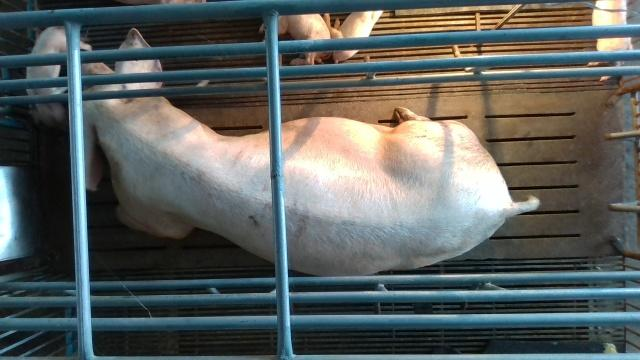piglet: (26, 23, 91, 129), (259, 13, 333, 65), (319, 10, 390, 62), (592, 0, 633, 52)
sow-sit: (83, 26, 542, 278)
